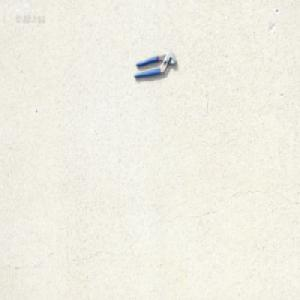Pliers: (133, 49, 176, 80)
